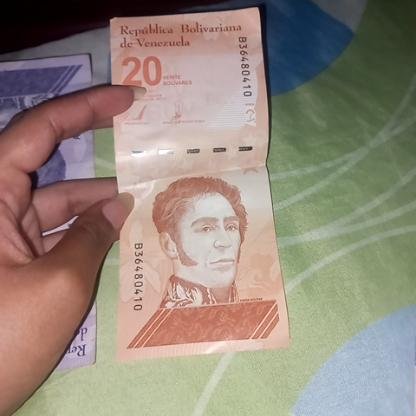twenty-front-vef: (112, 11, 289, 364)
